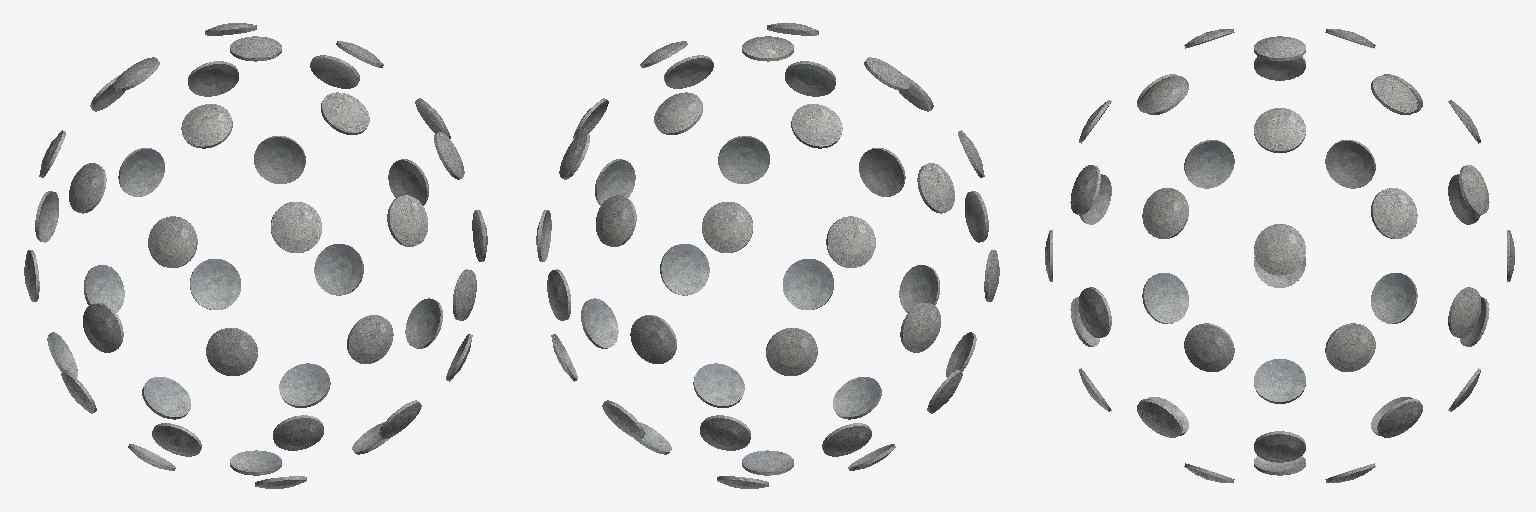
The picture shows the model from 3 angles: view 1: azimuth 30°, elevation 25°; view 2: azimuth 150°, elevation 25°; view 3: azimuth 270°, elevation 25°; orthographic projection.
Size of the model in its own units: 4.01 by 4.16 by 4.16.
Materials: 1 (1 with a texture image).